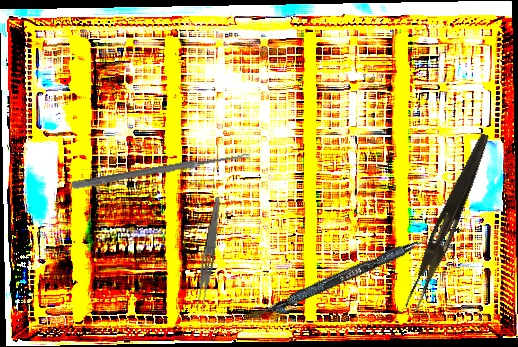Dressing Forceps: (403, 129, 493, 314), (193, 196, 223, 313)
Spatula Surgical: (242, 218, 460, 329)
Surgical Spoon: (71, 150, 251, 191)
